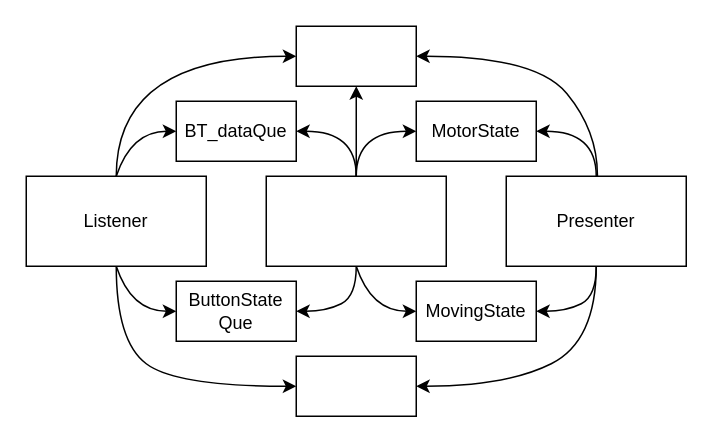
This 713x443 diagram has some shape labels left out. Here are the shapes that lost their labels. From the top down, the centre of each, then its label:
point 355,55: Ultra_data
point 355,220: Controller
point 355,385: ADC_Data
